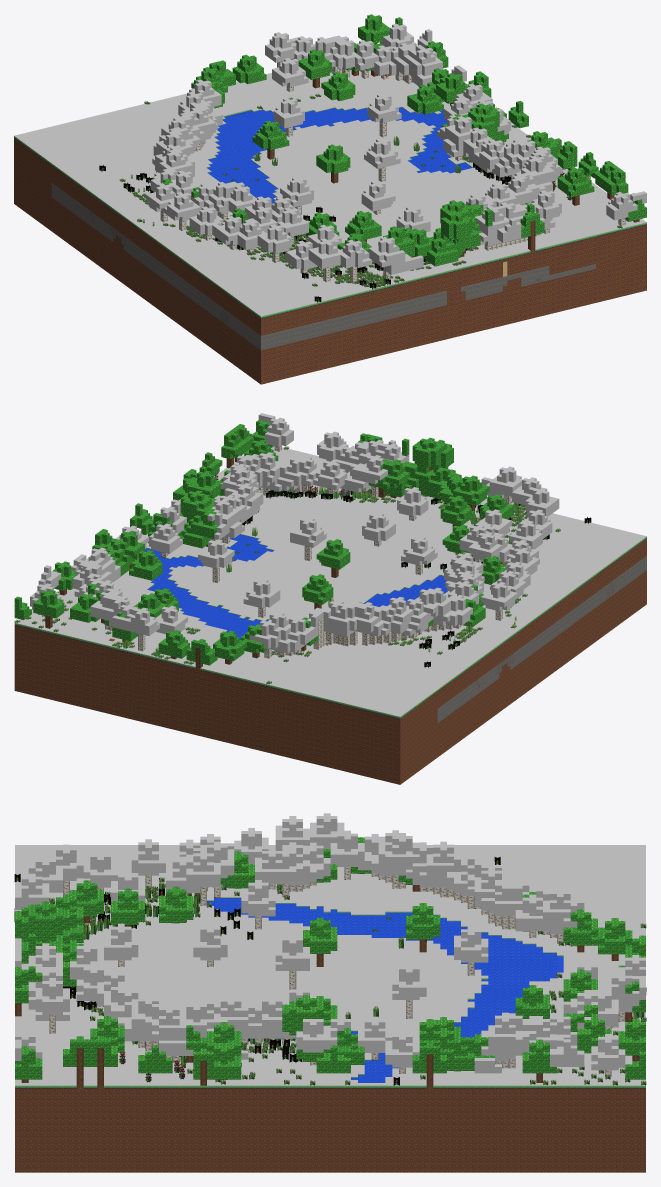
Rendered from Forest.obj.
3 views of the same model, one above another, from view 1: azimuth 30°, elevation 25°; view 2: azimuth 150°, elevation 25°; view 3: azimuth 270°, elevation 25° (orthographic). The views are drawn at different scales.
Visible parts, largest first — view 1: Grass_Block, Birch_Leaves, Dirt, Oak_Leaves, Stone, Stationary_Water, Birch_Log, Short_Grass, Dandelion, Oak_Log, Tall_Grass; view 2: Grass_Block, Dirt, Birch_Leaves, Oak_Leaves, Stationary_Water, Stone, Birch_Log, Short_Grass, Dandelion, Tall_Grass, Oak_Log; view 3: Grass_Block, Birch_Leaves, Dirt, Oak_Leaves, Stationary_Water, Birch_Log, Short_Grass, Oak_Log, Dandelion, Tall_Grass.
Boxes of the visible parts, x1,y1,x2,y2 form: Grass_Block: [14, 67, 646, 321]; Birch_Leaves: [146, 23, 646, 274]; Dirt: [14, 112, 646, 384]; Oak_Leaves: [154, 14, 646, 266]; Stone: [51, 183, 595, 350]; Stationary_Water: [207, 107, 472, 203]; Birch_Log: [160, 61, 625, 283]; Short_Grass: [119, 69, 622, 287]; Dandelion: [99, 162, 512, 302]; Oak_Log: [245, 43, 639, 257]; Tall_Grass: [254, 136, 532, 286]; Grass_Block: [14, 446, 646, 721]; Dirt: [14, 541, 646, 784]; Birch_Leaves: [30, 413, 559, 653]; Oak_Leaves: [14, 420, 513, 665]; Stationary_Water: [145, 534, 447, 639]; Stone: [437, 556, 646, 722]; Birch_Log: [42, 445, 528, 658]; Short_Grass: [14, 446, 560, 684]; Dandelion: [242, 489, 591, 667]; Tall_Grass: [123, 487, 525, 656]; Oak_Log: [45, 455, 474, 667]; Grass_Block: [15, 845, 645, 1091]; Birch_Leaves: [15, 813, 645, 1073]; Dirt: [15, 897, 645, 1172]; Oak_Leaves: [15, 837, 645, 1079]; Stationary_Water: [207, 898, 563, 1082]; Birch_Log: [49, 867, 625, 1076]; Short_Grass: [23, 877, 646, 1085]; Oak_Log: [15, 873, 639, 1085]; Dandelion: [14, 857, 500, 1062]; Tall_Grass: [14, 881, 644, 1064].
Bounding box in the file's own units: 41.55 × 12.5 × 46.14.
